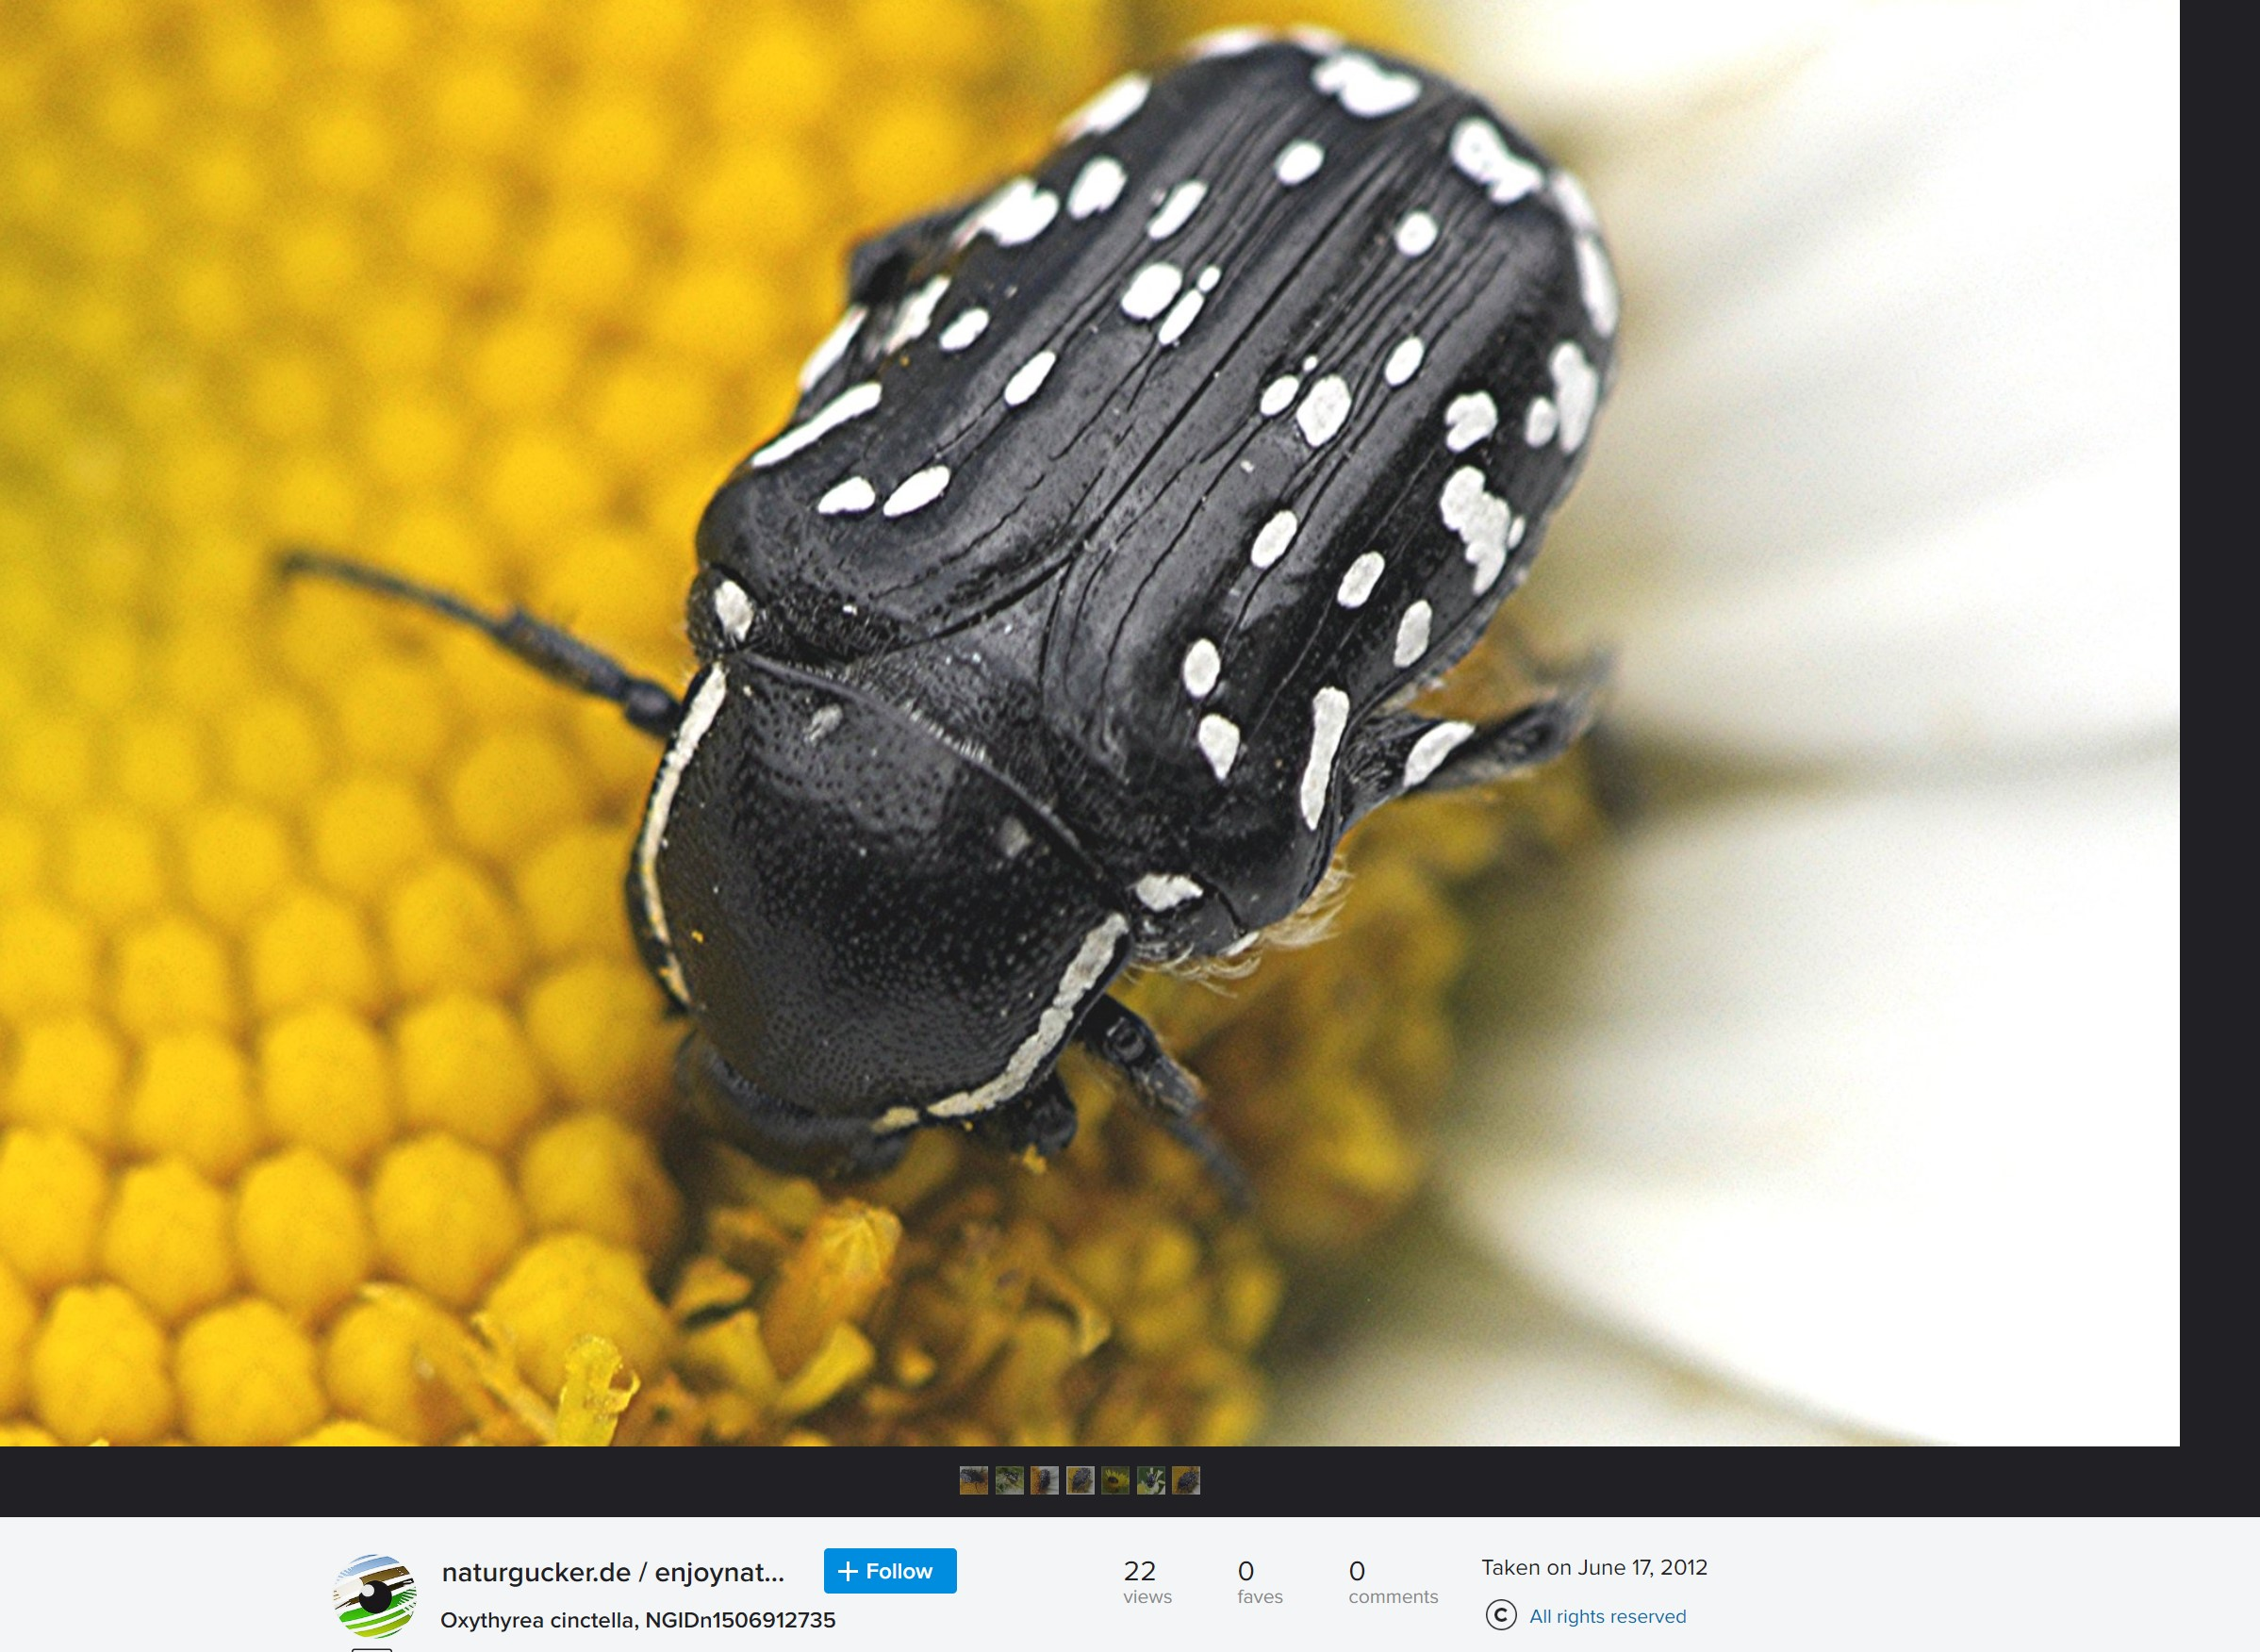Oxythyrea_cinctella: (253, 4, 1721, 1215)
